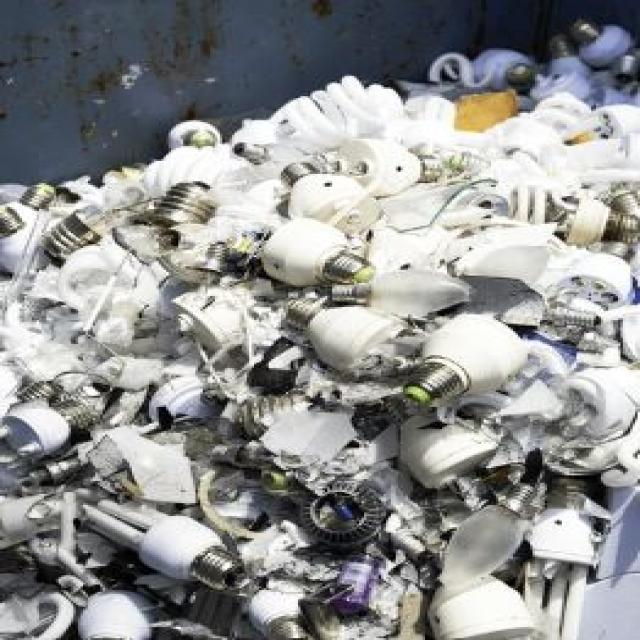electronic: (0, 26, 638, 638), (400, 311, 528, 407), (76, 588, 154, 638)
